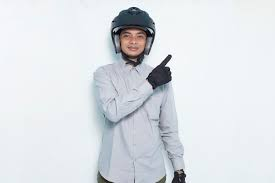helmets: (110, 7, 156, 56)
